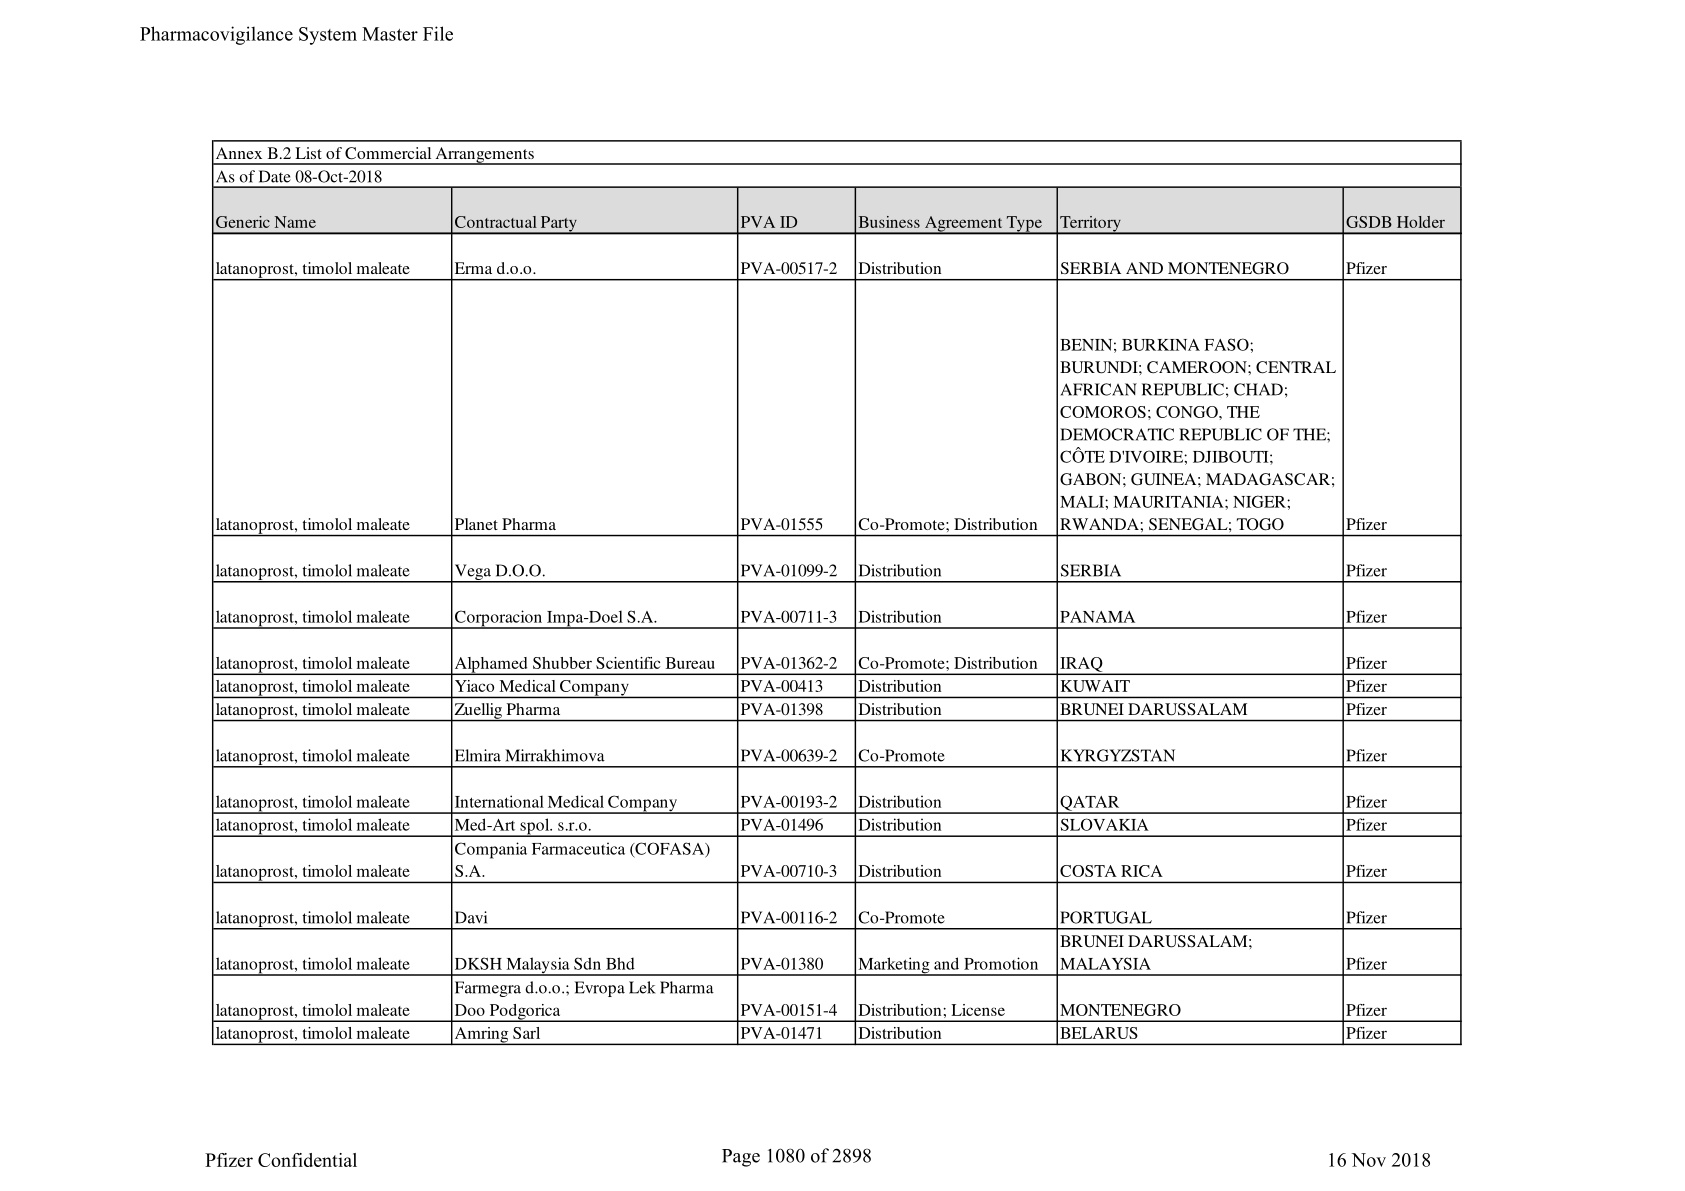merged_cells: (209, 138, 1463, 1047)
